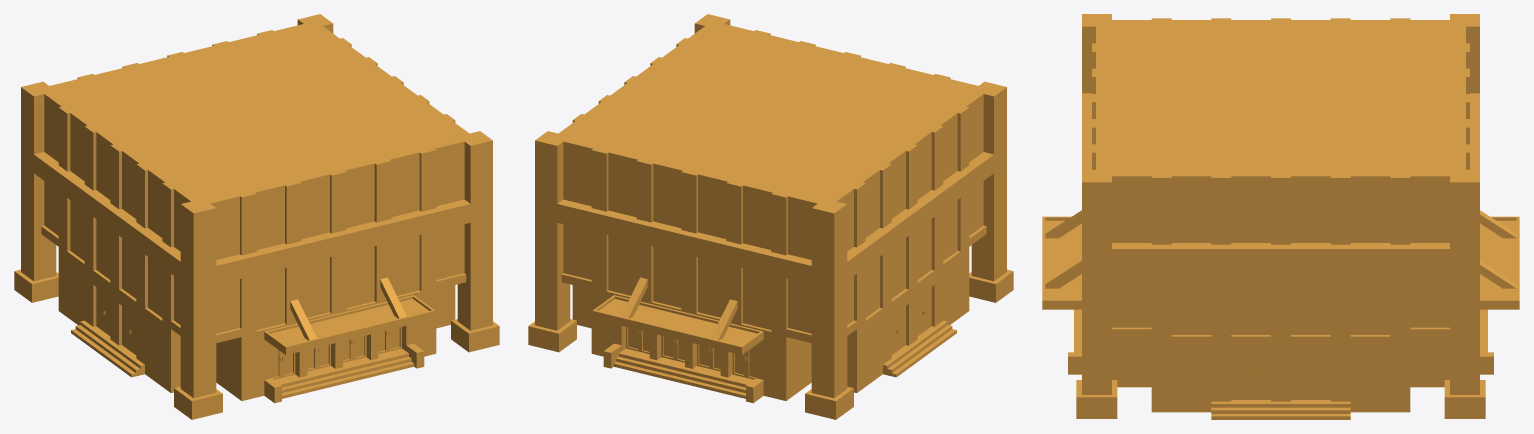
File: skyscraper-part-bottom.fbx
3 views of the same model, side by side, from view 1: azimuth 30°, elevation 25°; view 2: azimuth 150°, elevation 25°; view 3: azimuth 270°, elevation 25° (orthographic). The views are drawn at different scales.
Parts seen in each view (by area): view 1: skyscraper-part-bottom; view 2: skyscraper-part-bottom; view 3: skyscraper-part-bottom.
Boxes of the visible parts, box(x1,y1,x2,y2) form: skyscraper-part-bottom: box(14, 14, 499, 419); skyscraper-part-bottom: box(528, 14, 1013, 419); skyscraper-part-bottom: box(1042, 14, 1519, 419).
Size of the model in its own units: 20.8 by 13 by 24.
